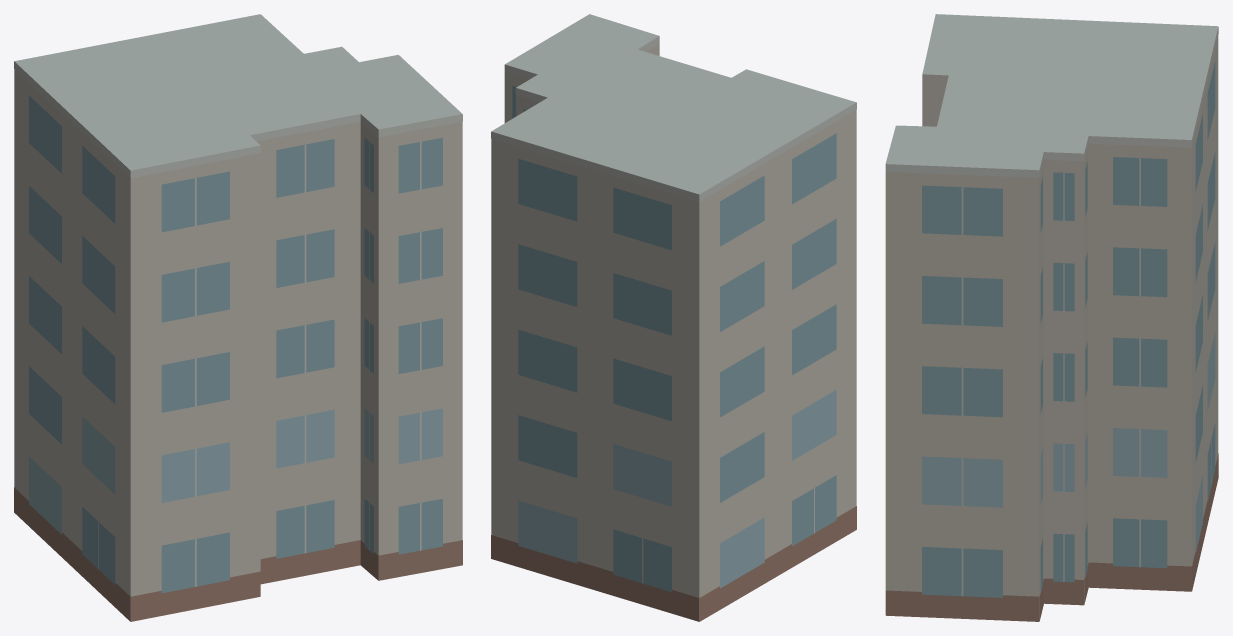
File: survey-upis-33040954.glb
3 views of the same model, side by side, from view 1: azimuth 30°, elevation 25°; view 2: azimuth 150°, elevation 25°; view 3: azimuth 270°, elevation 25° (orthographic). The views are drawn at different scales.
Visible parts, largest first — view 1: survey-upis-33040954.tmp; view 2: survey-upis-33040954.tmp; view 3: survey-upis-33040954.tmp.
Part boxes in pixels (x1,y1,x2,y2): survey-upis-33040954.tmp: (14, 14, 462, 621); survey-upis-33040954.tmp: (491, 14, 856, 621); survey-upis-33040954.tmp: (885, 14, 1218, 621).
Size of the model in its own units: 10.69 by 14.4 by 9.63.
